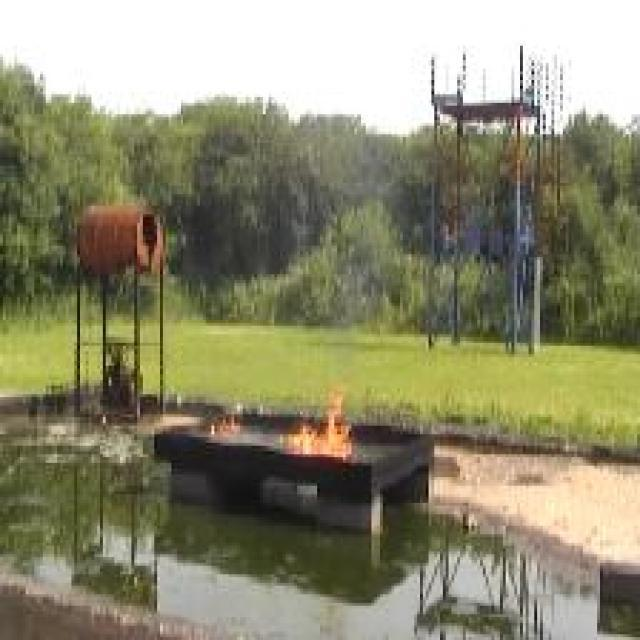Fire: (280, 388, 354, 461)
